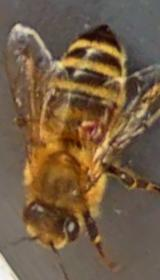varroa_mite: (69, 108, 110, 142)
